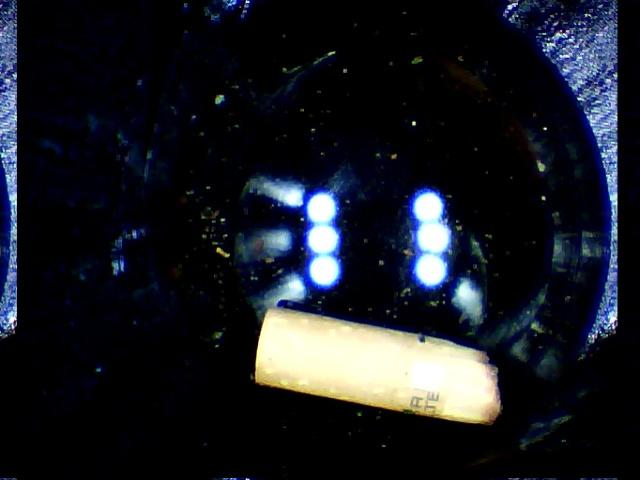megot: (240, 297, 519, 432)
